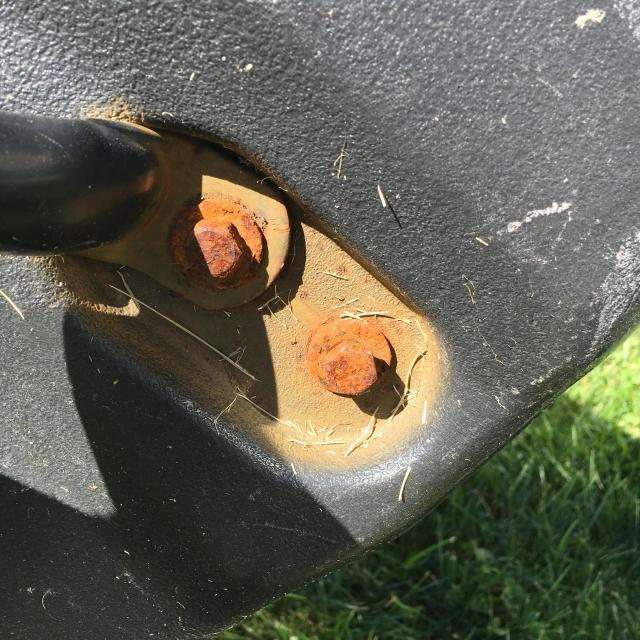non-corrosion: (162, 191, 269, 293), (305, 306, 404, 406)
